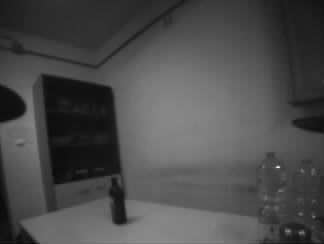Bottle: (292, 158, 324, 244), (256, 152, 286, 241), (107, 177, 127, 225)
